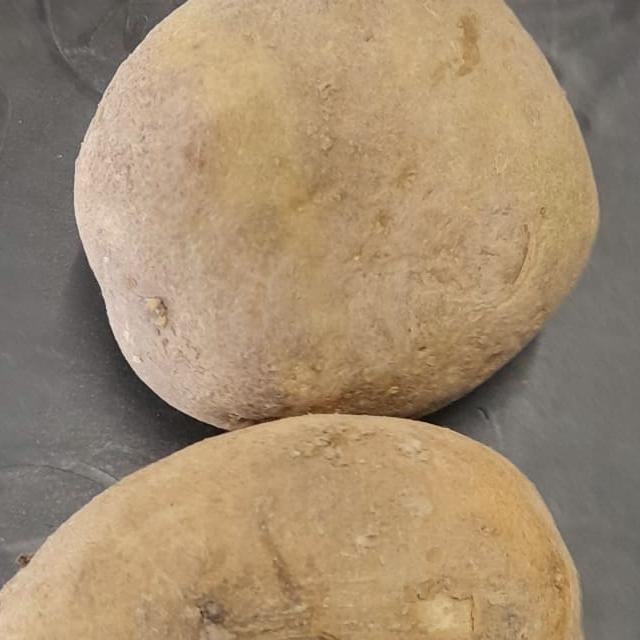potato: (30, 0, 640, 450), (0, 393, 626, 640)
